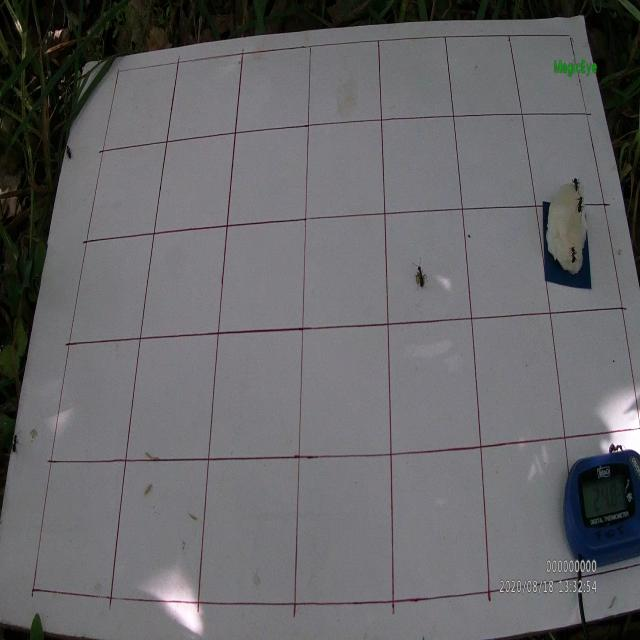Ant: (412, 256, 428, 292), (10, 429, 22, 459), (574, 194, 584, 223), (608, 440, 626, 455), (64, 140, 75, 162), (567, 242, 577, 264), (570, 176, 580, 194)
